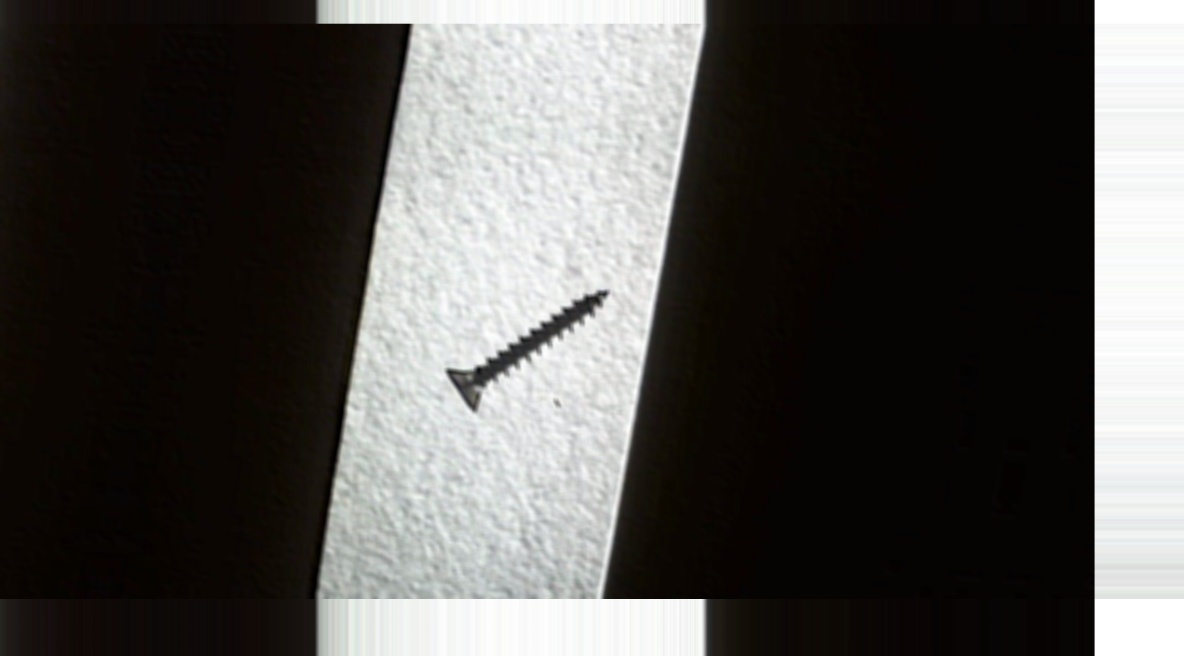S001: (416, 267, 622, 430)
